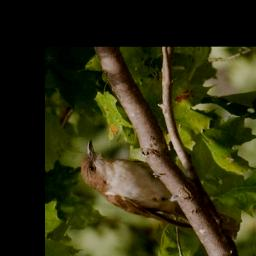Cuckoo: (76, 138, 245, 240)
